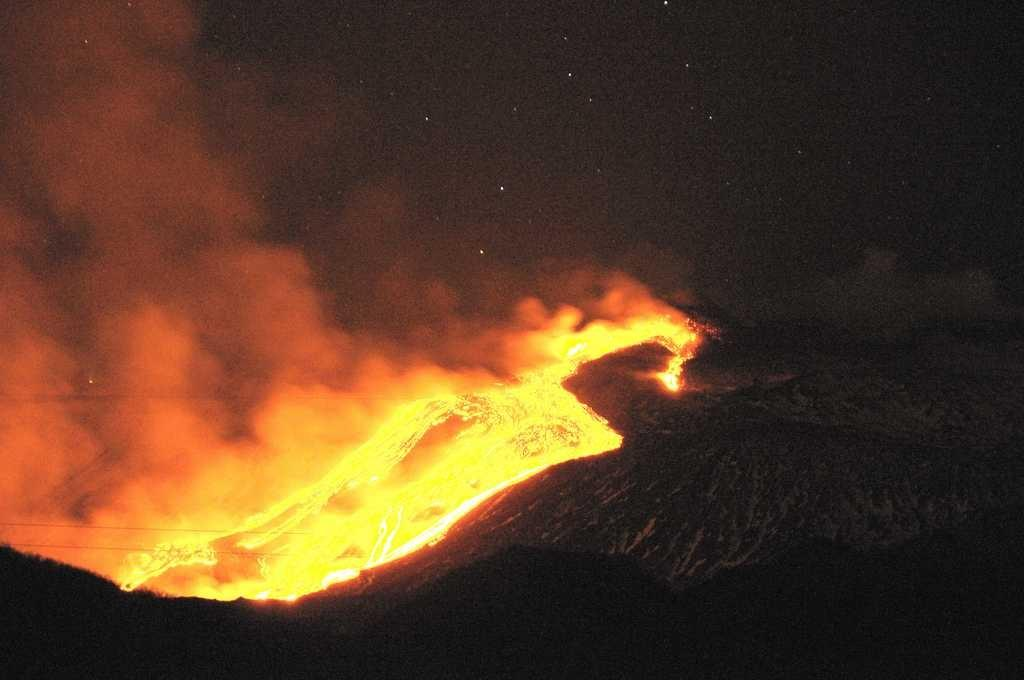fire: (400, 388, 573, 475), (233, 473, 362, 578)
smoke: (13, 10, 167, 340)
